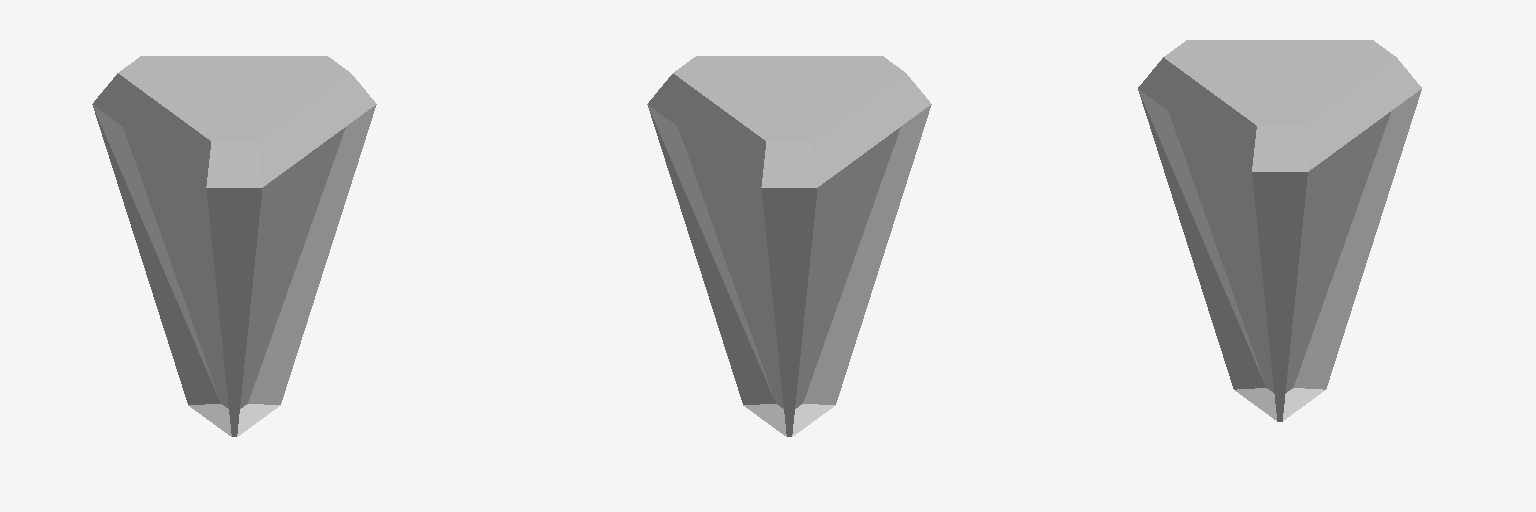
The model's file is PlafondNeon002.obj.
3 renders of one model, left to right at view 1: azimuth 30°, elevation 25°; view 2: azimuth 150°, elevation 25°; view 3: azimuth 270°, elevation 25°, orthographic.
Parts seen in each view (by area): view 1: PlafondNeon002_Circle; view 2: PlafondNeon002_Circle; view 3: PlafondNeon002_Circle.
Part boxes in pixels (x1,y1,x2,y2): PlafondNeon002_Circle: (92,56,376,436); PlafondNeon002_Circle: (647,56,931,436); PlafondNeon002_Circle: (1138,40,1421,421).
Size of the model in its own units: 1.91 by 2.92 by 2.2.